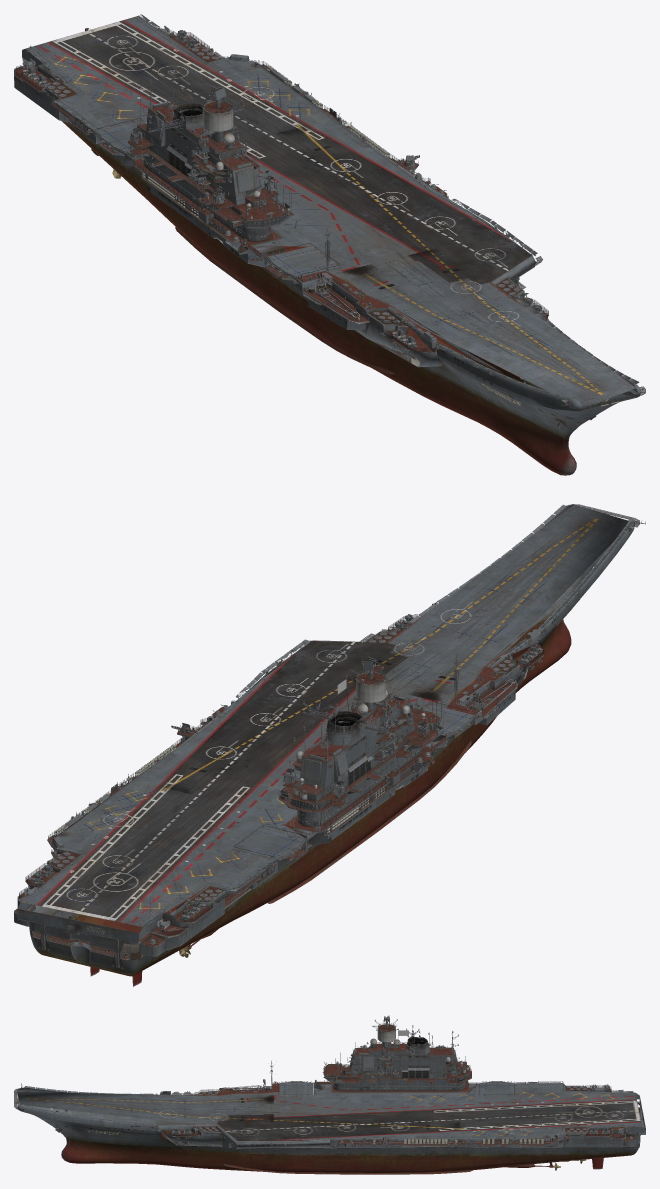
File: cv_admiral_kuznetsov_war_thunder-maximum-compressed.glb
3 views of the same model, one above another, from view 1: azimuth 30°, elevation 25°; view 2: azimuth 150°, elevation 25°; view 3: azimuth 270°, elevation 25° (orthographic). The views are drawn at different scales.
Parts seen in each view (by area): view 1: Object_23, Object_68, Object_35, Object_34, Object_66, Object_17, Object_22, Object_59, Object_15, Object_24, Object_31, Object_14 (+7 smaller); view 2: Object_23, Object_68, Object_34, Object_35, Object_66, Object_17, Object_59, Object_22, Object_15, Object_13, Object_14, Object_31 (+6 smaller); view 3: Object_23, Object_68, Object_34, Object_35, Object_17, Object_66, Object_15, Object_59, Object_14, Object_22, Object_13, Object_16 (+7 smaller).
Boxes of the visible parts, left/top/right/bottom form: Object_23: left=26, top=16, right=639, bottom=408; Object_68: left=60, top=87, right=576, bottom=475; Object_35: left=14, top=15, right=618, bottom=427; Object_34: left=14, top=28, right=640, bottom=438; Object_66: left=44, top=50, right=546, bottom=348; Object_17: left=130, top=74, right=290, bottom=227; Object_22: left=25, top=14, right=645, bottom=408; Object_59: left=14, top=34, right=607, bottom=414; Object_15: left=128, top=88, right=294, bottom=228; Object_24: left=230, top=152, right=338, bottom=279; Object_31: left=46, top=46, right=520, bottom=325; Object_14: left=142, top=155, right=270, bottom=241; Object_23: left=18, top=504, right=645, bottom=932; Object_68: left=38, top=618, right=571, bottom=986; Object_34: left=14, top=504, right=634, bottom=974; Object_35: left=14, top=526, right=634, bottom=968; Object_66: left=48, top=632, right=542, bottom=904; Object_17: left=279, top=697, right=443, bottom=810; Object_59: left=14, top=622, right=543, bottom=959; Object_22: left=18, top=504, right=645, bottom=925; Object_15: left=278, top=663, right=443, bottom=813; Object_13: left=56, top=712, right=412, bottom=889; Object_14: left=297, top=747, right=424, bottom=827; Object_31: left=33, top=627, right=515, bottom=957; Object_23: left=17, top=1061, right=645, bottom=1144; Object_68: left=61, top=1127, right=635, bottom=1174; Object_34: left=17, top=1084, right=645, bottom=1155; Object_35: left=17, top=1083, right=643, bottom=1148; Object_17: left=324, top=1031, right=471, bottom=1082; Object_66: left=155, top=1025, right=518, bottom=1145; Object_15: left=323, top=1031, right=471, bottom=1090; Object_59: left=50, top=1086, right=639, bottom=1147; Object_14: left=333, top=1080, right=466, bottom=1090; Object_22: left=14, top=1080, right=641, bottom=1145; Object_13: left=480, top=1081, right=562, bottom=1142; Object_16: left=322, top=1037, right=471, bottom=1083.
Size of the model in its own units: 81.68 by 67.18 by 306.
Materials: 21 (21 with a texture image).
